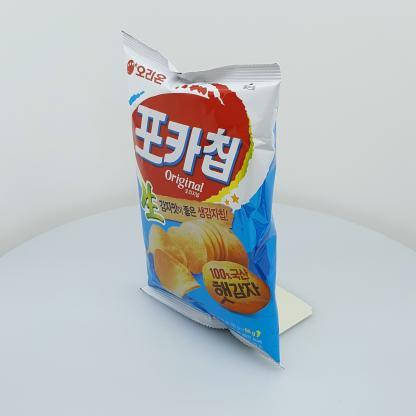Plastic Packaging: (92, 24, 304, 380)
